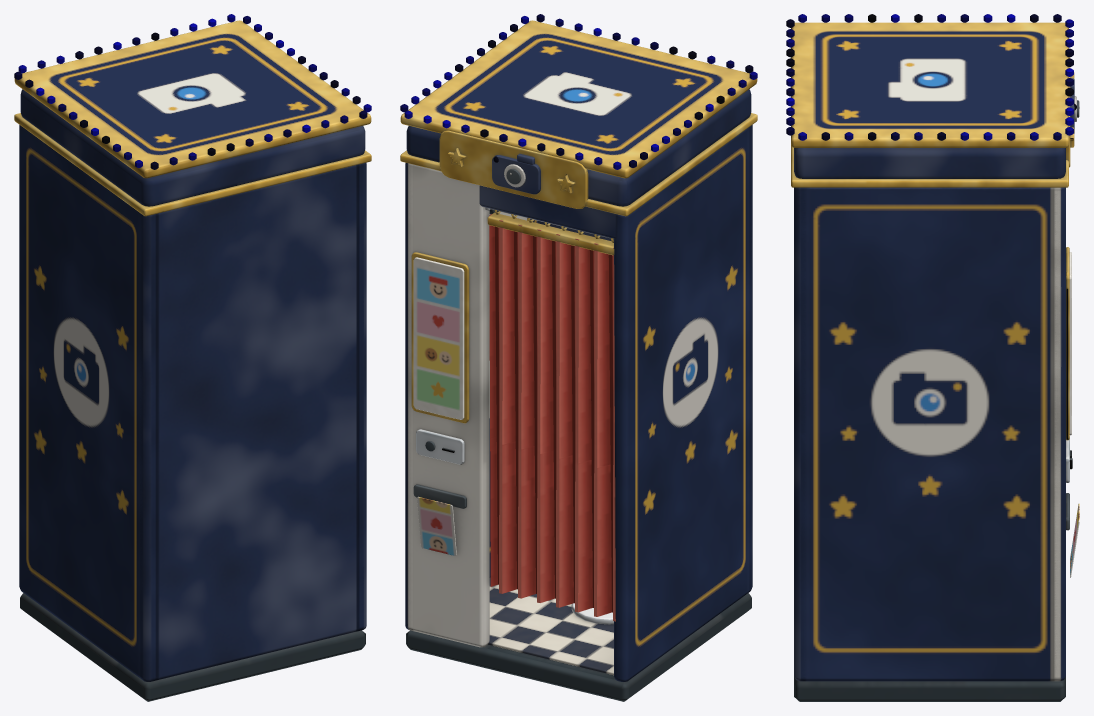
The model's file is photo-booth.fbx.
The picture shows the model from 3 angles, left to right: view 1: azimuth 30°, elevation 25°; view 2: azimuth 150°, elevation 25°; view 3: azimuth 270°, elevation 25°; orthographic projection. The views are drawn at different scales.
Parts seen in each view (by area): view 1: Body, Anim Blink, Anim Blink.002, Anim Blink.001; view 2: Body, Anim Curtain, Anim Blink.001, Anim Blink.002, Anim Blink; view 3: Body, Anim Blink.002, Anim Blink.001, Anim Blink.
Boxes of the visible parts, x1,y1,x2,y2 form: Body: [14, 20, 371, 701]; Anim Blink: [18, 23, 367, 167]; Anim Blink.002: [14, 14, 371, 165]; Anim Blink.001: [25, 16, 349, 169]; Body: [400, 20, 757, 701]; Anim Curtain: [487, 209, 615, 621]; Anim Blink.001: [400, 23, 753, 165]; Anim Blink.002: [404, 16, 735, 167]; Anim Blink: [411, 14, 757, 169]; Body: [791, 22, 1079, 701]; Anim Blink.002: [786, 14, 1073, 140]; Anim Blink.001: [786, 14, 1073, 140]; Anim Blink: [786, 14, 1073, 140].
Size of the model in its own units: 0.9895 by 2.19 by 1.01.
